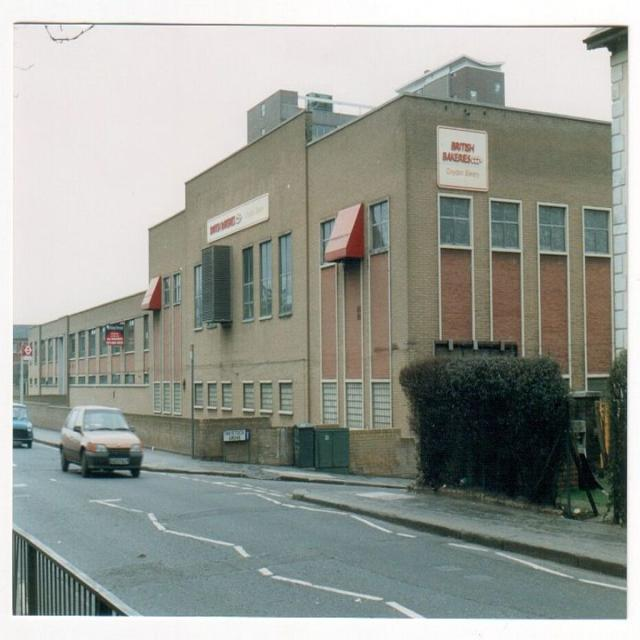car: (53, 404, 143, 480)
